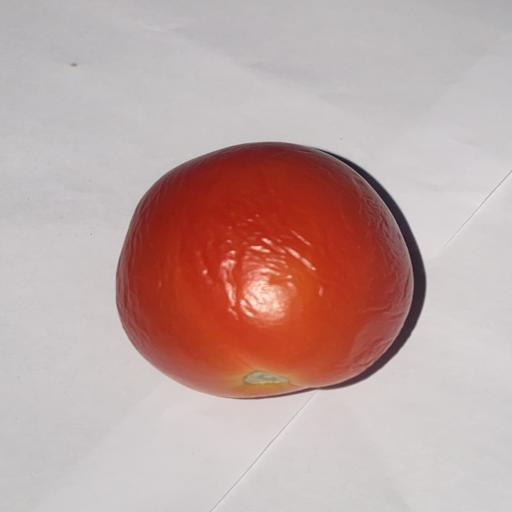spoiled: (117, 143, 413, 397)
